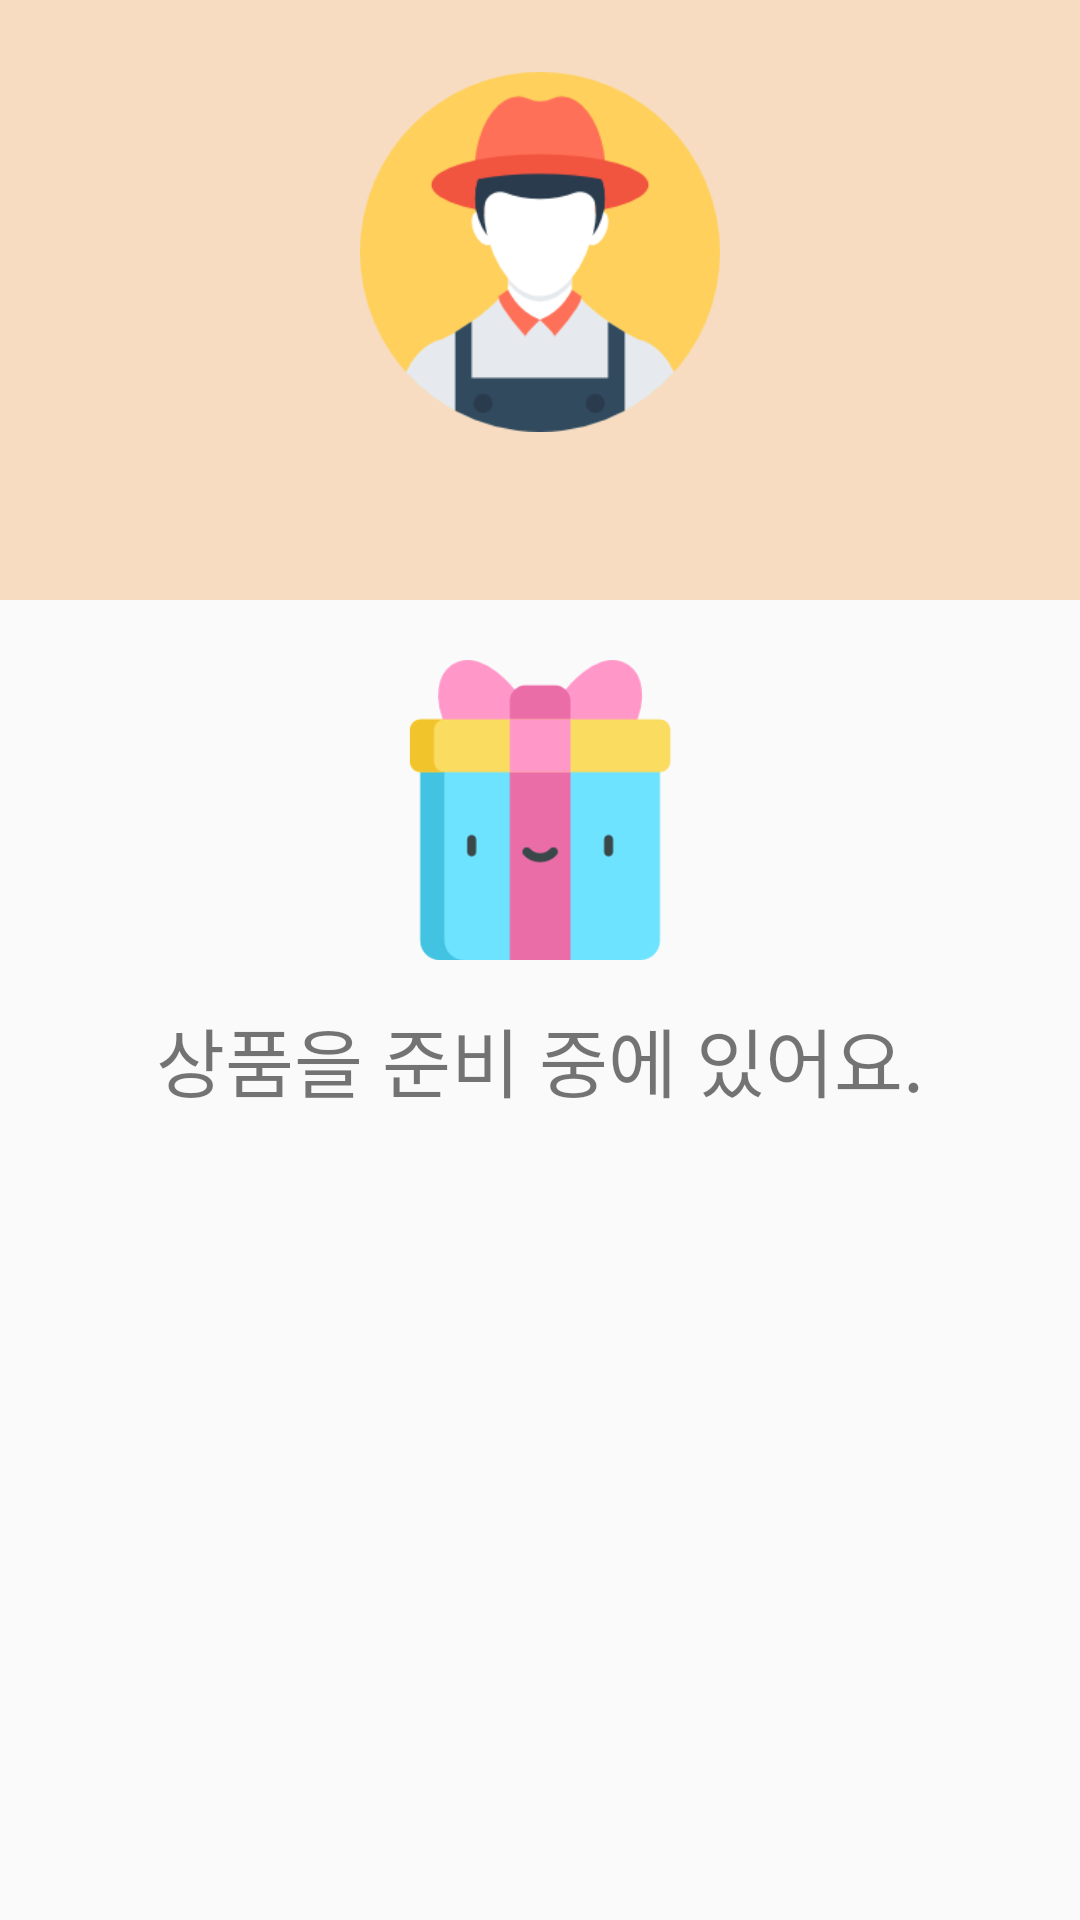

Named icons in this screenshot (1080 × 1920) and their bounding boxes, (x1, y1, x2, y2):
farmer: (360, 72, 720, 432)
